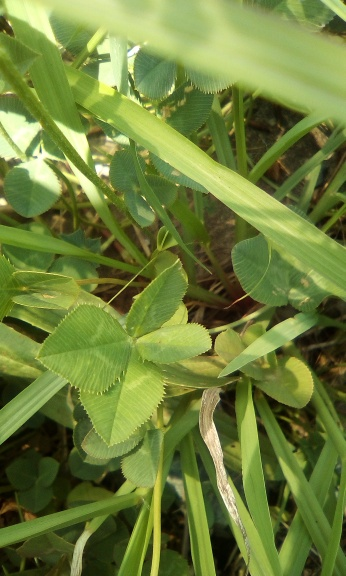4leaf: (33, 257, 213, 447)
